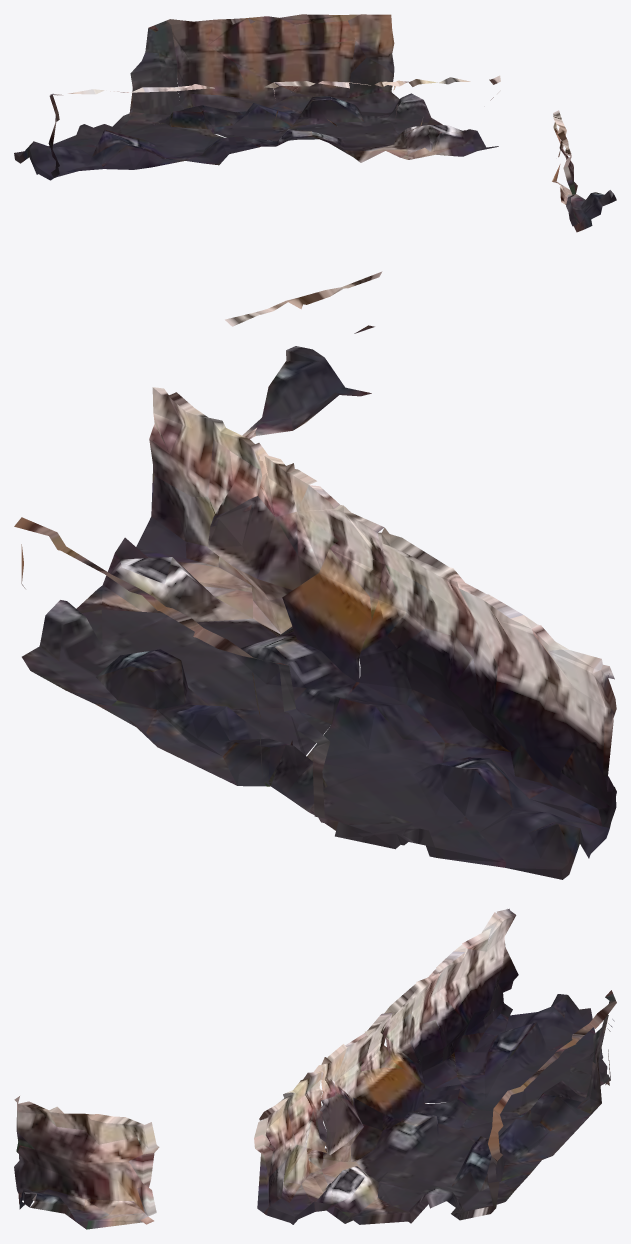
The picture shows the model from 3 angles, top to bottom: view 1: azimuth 30°, elevation 25°; view 2: azimuth 150°, elevation 25°; view 3: azimuth 270°, elevation 25°; orthographic projection. The views are drawn at different scales.
Parts seen in each view (by area): view 1: Mesh_0; view 2: Mesh_0; view 3: Mesh_0.
Part boxes in pixels (<box>): Mesh_0: <box>14,14,616,232</box>; Mesh_0: <box>14,271,616,879</box>; Mesh_0: <box>14,908,616,1229</box>.
Bounding box in the file's own units: 33.33 × 8.41 × 37.07.
1 material, 1 textured.
